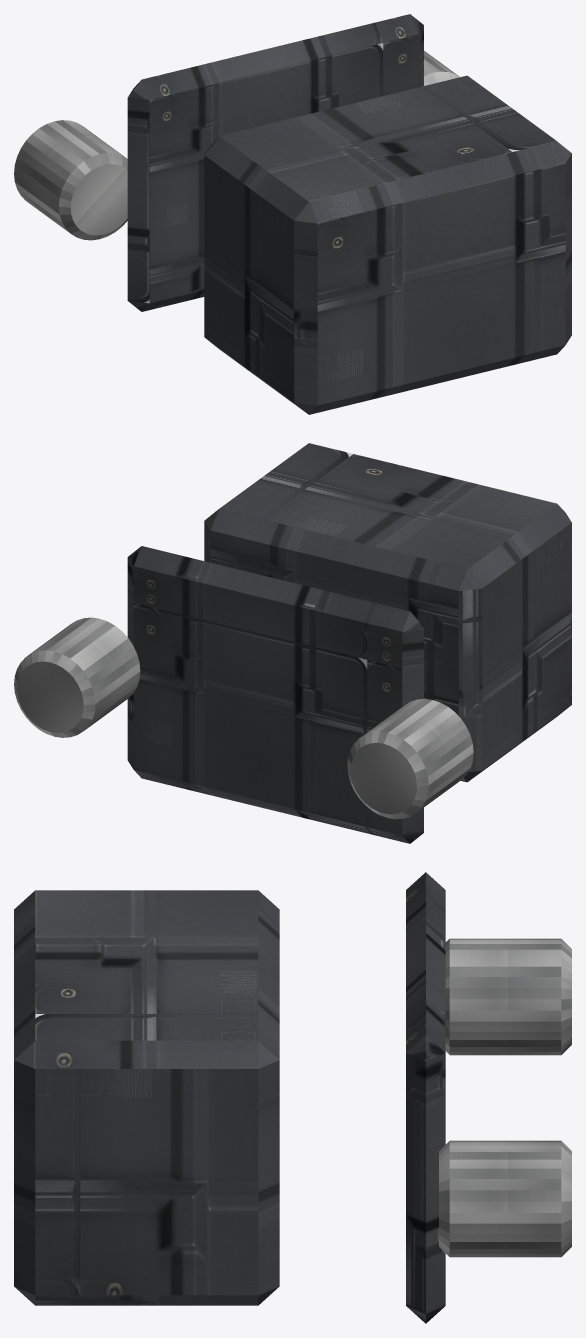
The model's file is battery.glb.
3 renders of one model, top to bottom at view 1: azimuth 30°, elevation 25°; view 2: azimuth 150°, elevation 25°; view 3: azimuth 270°, elevation 25°, orthographic. The views are drawn at different scales.
Parts seen in each view (by area): view 1: battery_body, battery_lid, battery_terminal_pos, battery_terminal_neg; view 2: battery_body, battery_lid, battery_terminal_neg, battery_terminal_pos; view 3: battery_body, battery_lid, battery_terminal_neg, battery_terminal_pos.
Boxes of the visible parts, x1,y1,x2,y2 form: battery_body: (204, 75, 571, 414); battery_lid: (127, 14, 423, 311); battery_terminal_pos: (14, 120, 127, 240); battery_terminal_neg: (424, 51, 459, 85); battery_body: (204, 443, 571, 782); battery_lid: (127, 546, 423, 843); battery_terminal_neg: (14, 617, 140, 737); battery_terminal_pos: (347, 699, 473, 819); battery_body: (14, 890, 279, 1305); battery_lid: (406, 872, 445, 1323); battery_terminal_neg: (439, 1140, 571, 1257); battery_terminal_pos: (445, 938, 571, 1055).
Size of the model in its own units: 0.224 by 0.12 by 0.21.
Materials: 4 (4 with a texture image).
